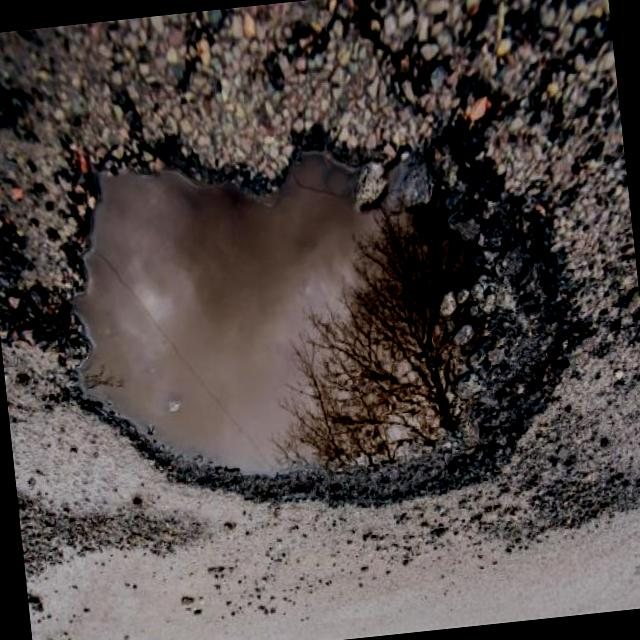pothole: (32, 84, 618, 549)
